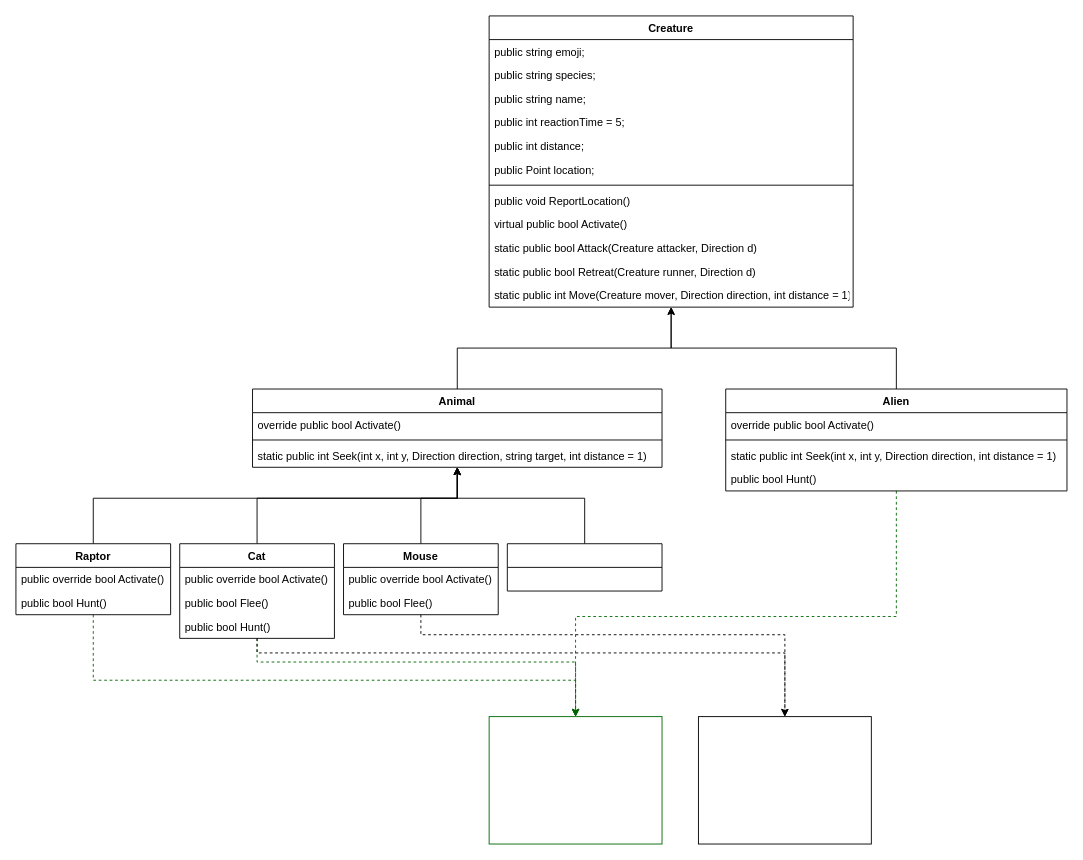
The diagram is 1083 pixels wide and 860 high, and some of its shapes have lost their labels. Here are the shapes that lost their labels. From the top down, the centre of each, then its label:
At point (584, 567): "Bird".
At point (575, 780): "<<Interface>> IPredator public bool Hunt()".
At point (784, 780): "<<Interface>> IPrey public bool Flee()".
